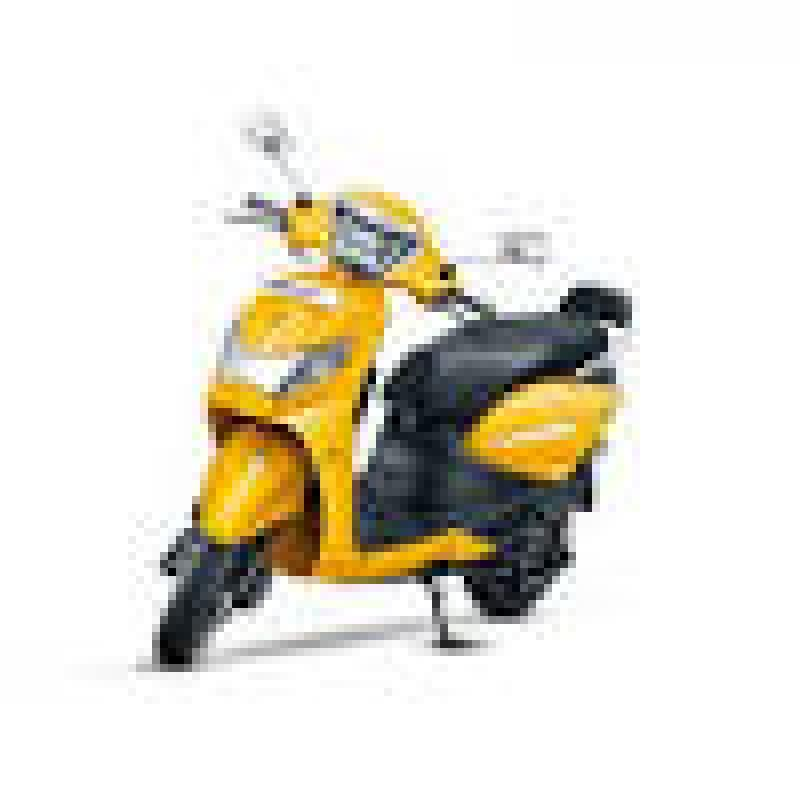bike: (116, 82, 642, 749)
